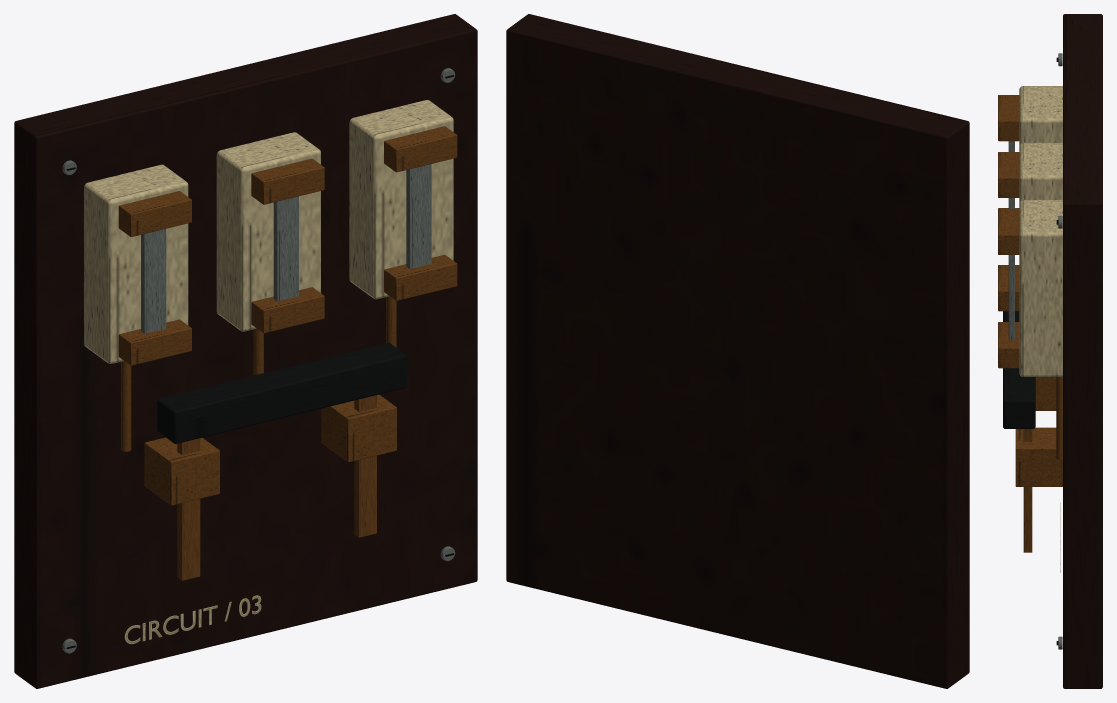
The picture shows the model from 3 angles, left to right: view 1: azimuth 30°, elevation 25°; view 2: azimuth 150°, elevation 25°; view 3: azimuth 270°, elevation 25°; orthographic projection. The views are drawn at different scales.
Visible parts, largest first — view 1: Bakelite mounting slab, Porcelain fuse base.002, Porcelain fuse base.001, Porcelain fuse base, Insulated cross handle, Contact block, Contact block.001, Fuse strip, Fuse strip.001, Fuse strip.002, Fuse terminal.001, Fuse terminal.003 (+8 smaller); view 2: Bakelite mounting slab; view 3: Bakelite mounting slab, Porcelain fuse base.002, Contact block.001, Porcelain fuse base, Porcelain fuse base.001, Insulated cross handle, Fuse terminal.001, Fuse terminal.003, Fuse terminal.005, Fuse terminal.004, Copper knife.001, Fuse terminal.002 (+3 smaller).
Boxes of the visible parts, bbox=[...] form: Bakelite mounting slab: bbox=[14, 14, 477, 688]; Porcelain fuse base.002: bbox=[349, 100, 453, 299]; Porcelain fuse base.001: bbox=[216, 132, 320, 331]; Porcelain fuse base: bbox=[84, 164, 188, 363]; Insulated cross handle: bbox=[157, 342, 406, 443]; Contact block: bbox=[144, 437, 219, 505]; Contact block.001: bbox=[321, 394, 396, 462]; Fuse strip: bbox=[141, 229, 166, 333]; Fuse strip.001: bbox=[273, 196, 298, 301]; Fuse strip.002: bbox=[406, 164, 431, 268]; Fuse terminal.001: bbox=[118, 191, 191, 237]; Fuse terminal.003: bbox=[251, 158, 324, 204]; Bakelite mounting slab: bbox=[506, 14, 969, 688]; Bakelite mounting slab: bbox=[1063, 14, 1102, 688]; Porcelain fuse base.002: bbox=[1019, 200, 1062, 376]; Contact block.001: bbox=[1015, 427, 1062, 486]; Porcelain fuse base: bbox=[1019, 86, 1062, 145]; Porcelain fuse base.001: bbox=[1019, 143, 1062, 202]; Insulated cross handle: bbox=[1003, 311, 1035, 428]; Fuse terminal.001: bbox=[998, 95, 1019, 141]; Fuse terminal.003: bbox=[998, 152, 1019, 197]; Fuse terminal.005: bbox=[998, 209, 1019, 254]; Fuse terminal.004: bbox=[998, 322, 1019, 368]; Copper knife.001: bbox=[1023, 429, 1032, 552]; Fuse terminal.002: bbox=[998, 265, 1019, 311].
Bounding box in the file's own units: 2.01 × 2.4 × 0.4688.
6 materials, 6 textured.
